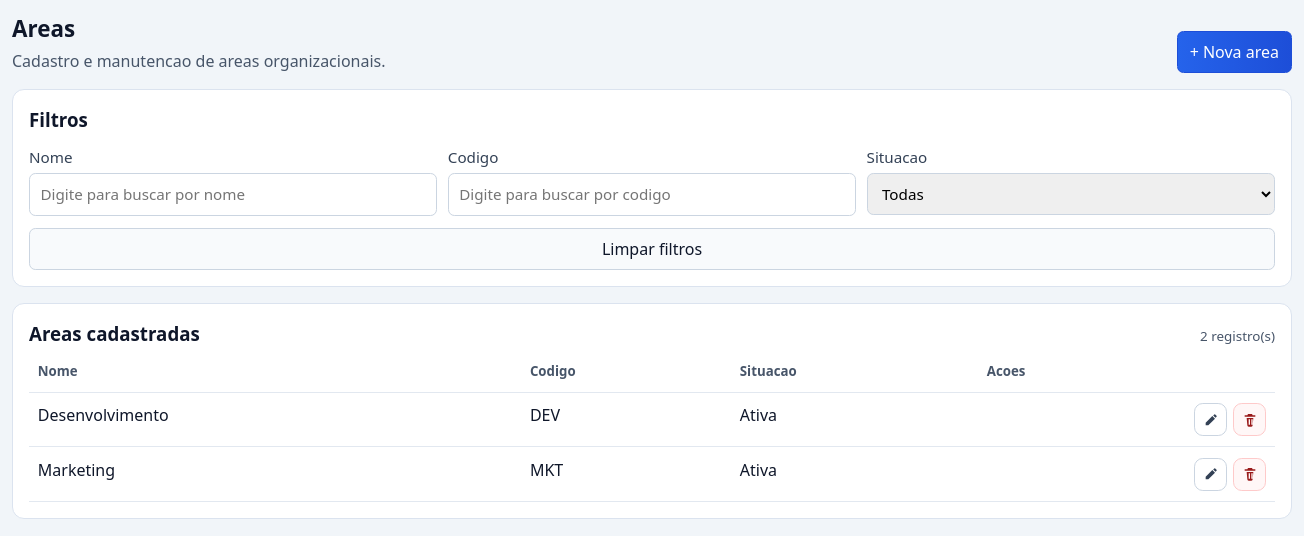
it: PaginaAreas › deve listar areas e filtrar por nome
The width and height of the screenshot is (1304, 536).
Expected: the text "Marketing" is shown, [29,447,521,502]
Expected: the text "Desenvolvimento" is shown, [29,393,521,447]
Type "Mark" into the field labelled "Nome" at coordinates (233, 195), box [29,174,437,216]
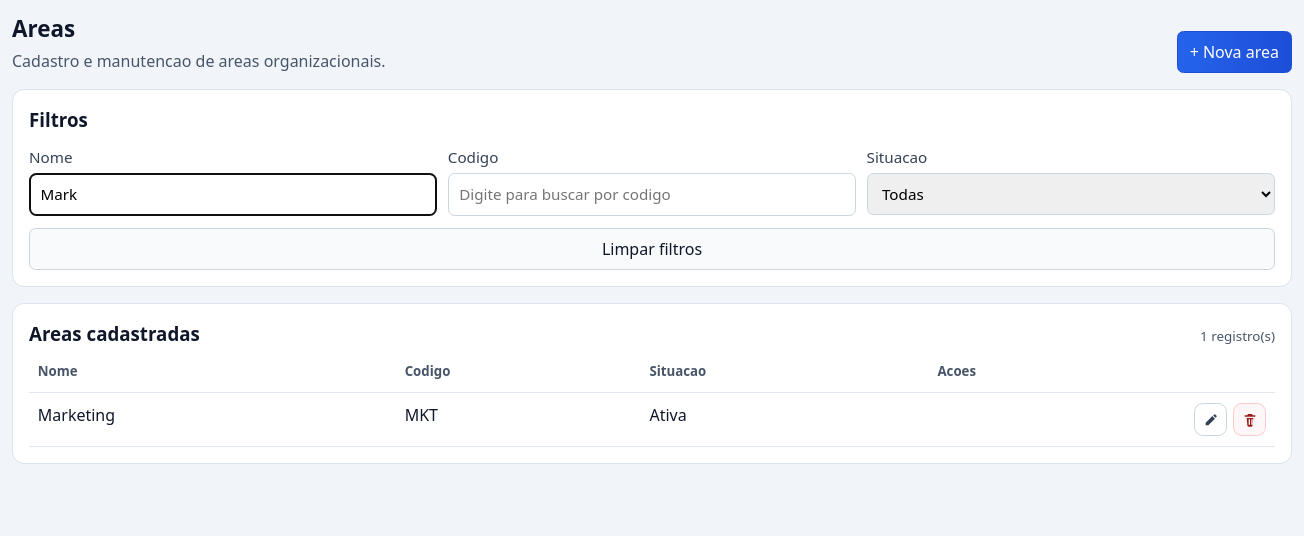
Expected: the text "Marketing" is shown, [29,393,396,447]
Now the text "Desenvolvimento" is gone
